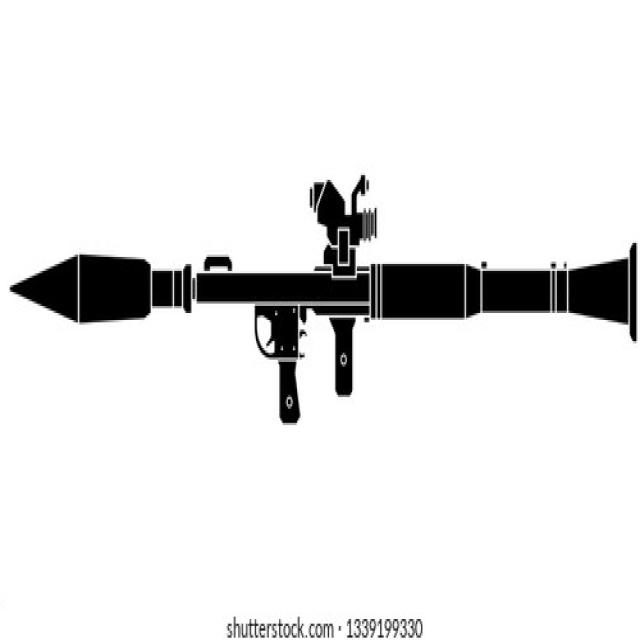Gun: (13, 164, 640, 472)
